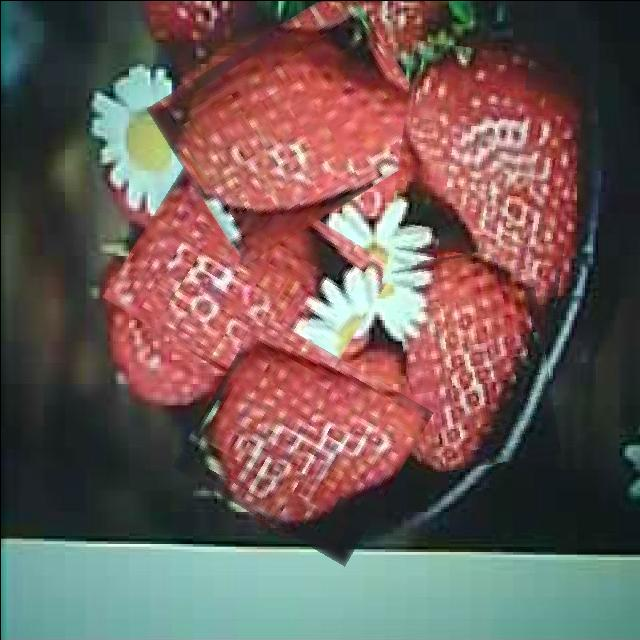strawberry: (161, 6, 430, 240), (117, 168, 381, 396), (187, 331, 418, 547), (389, 44, 581, 301), (397, 248, 553, 470)
